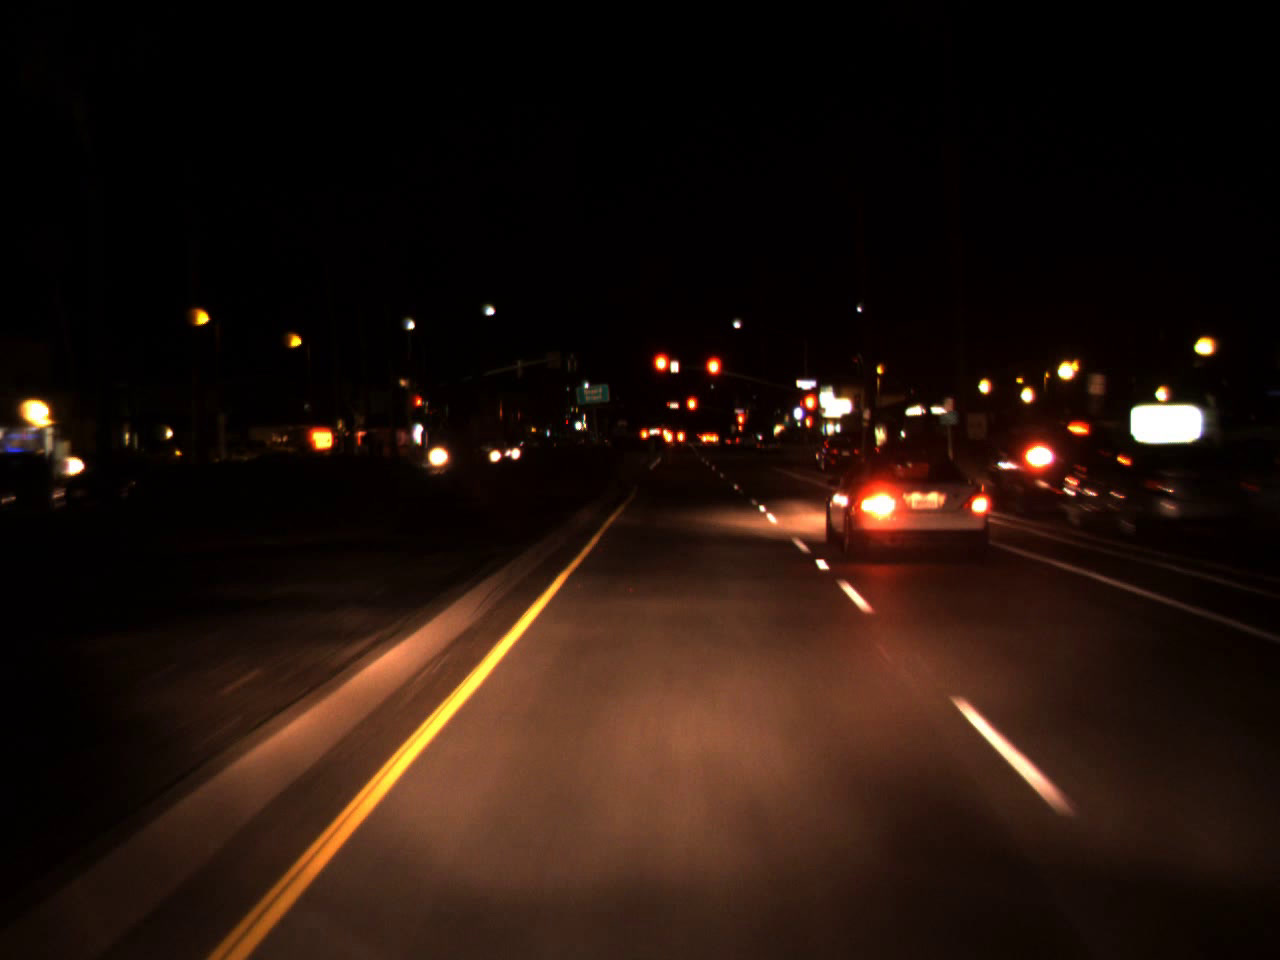stop: (650, 349, 674, 394), (703, 354, 722, 397), (801, 390, 819, 433), (684, 395, 697, 427), (414, 396, 423, 417), (737, 411, 744, 438)
